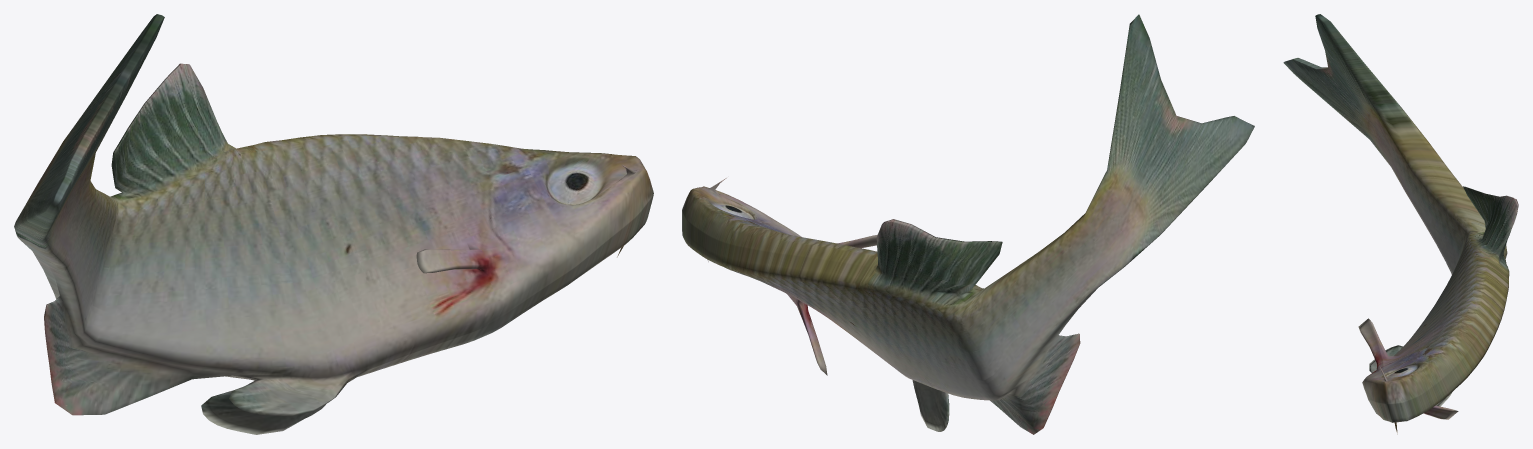
Rendered from yaritanago_model.fbx.
The picture shows the model from 3 angles, left to right: view 1: azimuth 30°, elevation 25°; view 2: azimuth 150°, elevation 25°; view 3: azimuth 270°, elevation 25°; orthographic projection. The views are drawn at different scales.
Visible parts, largest first — view 1: pCube1; view 2: pCube1; view 3: pCube1.
Boxes of the visible parts, x1,y1,x2,y2 form: pCube1: [14, 14, 653, 434]; pCube1: [682, 14, 1254, 434]; pCube1: [1283, 14, 1518, 434].
Bounding box in the file's own units: 6.34 × 4.75 × 3.01.
